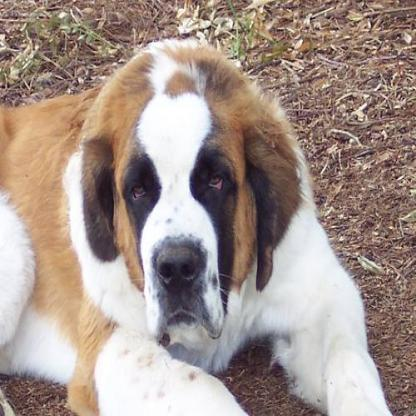Saint_Bernard: (0, 36, 391, 414)
